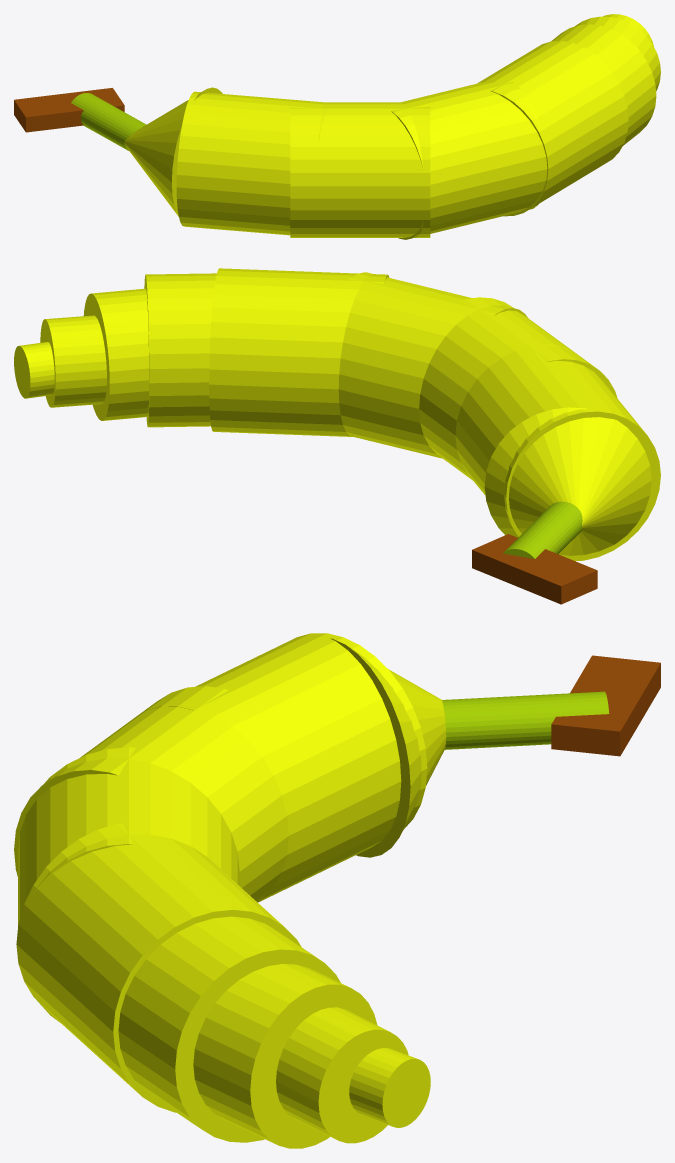
File: banane.fbx
3 views of the same model, one above another, from view 1: azimuth 30°, elevation 25°; view 2: azimuth 150°, elevation 25°; view 3: azimuth 270°, elevation 25° (orthographic). The views are drawn at different scales.
Parts seen in each view (by area): view 1: Cylinder.001, Cylinder.002, Cylinder, Cylinder.003, Cylinder.004, Cone, Cube, Cylinder.008, Cylinder.005; view 2: Cylinder.003, Cone, Cylinder, Cylinder.002, Cylinder.001, Cylinder.004, Cylinder.005, Cylinder.007, Cube, Cylinder.008, Cylinder.006; view 3: Cylinder.002, Cylinder.003, Cylinder.004, Cylinder.001, Cylinder.005, Cylinder, Cylinder.007, Cube, Cylinder.008, Cone, Cylinder.006.
Part boxes in pixels (x1,y1,x2,y2): Cylinder.001: (290,102,430,237); Cylinder.002: (176,91,326,237); Cylinder: (391,82,547,239); Cylinder.003: (477,41,628,216); Cylinder.004: (551,24,656,145); Cone: (124,87,222,216); Cube: (14,88,124,132); Cylinder.008: (71,93,146,150); Cylinder.005: (575,16,660,91); Cylinder.003: (209,268,389,436); Cone: (484,407,651,555); Cylinder: (338,272,527,458); Cylinder.002: (455,344,660,561); Cylinder.001: (419,297,617,480); Cylinder.004: (144,273,216,427); Cylinder.005: (83,288,148,420); Cylinder.007: (40,315,106,407); Cube: (472,534,597,604); Cylinder.008: (503,501,582,558); Cylinder.006: (14,342,54,398); Cylinder.002: (146,633,427,902); Cylinder.003: (16,823,301,1112); Cylinder.004: (118,916,340,1142); Cylinder.001: (14,686,288,902); Cylinder.005: (193,964,377,1148); Cylinder: (18,747,239,1022); Cylinder.007: (276,1007,408,1143); Cube: (551,655,660,756); Cylinder.008: (442,691,609,749); Cone: (331,638,446,857); Cylinder.006: (349,1048,430,1127).
Size of the model in its own units: 429 by 94.39 by 269.
